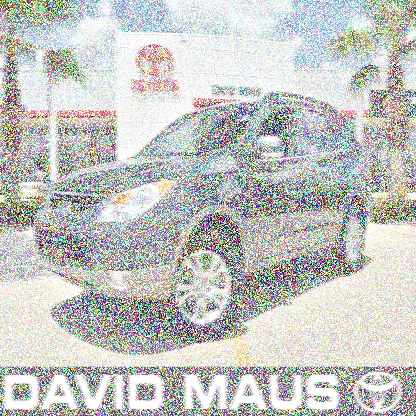Vehicle: (32, 90, 372, 345)
